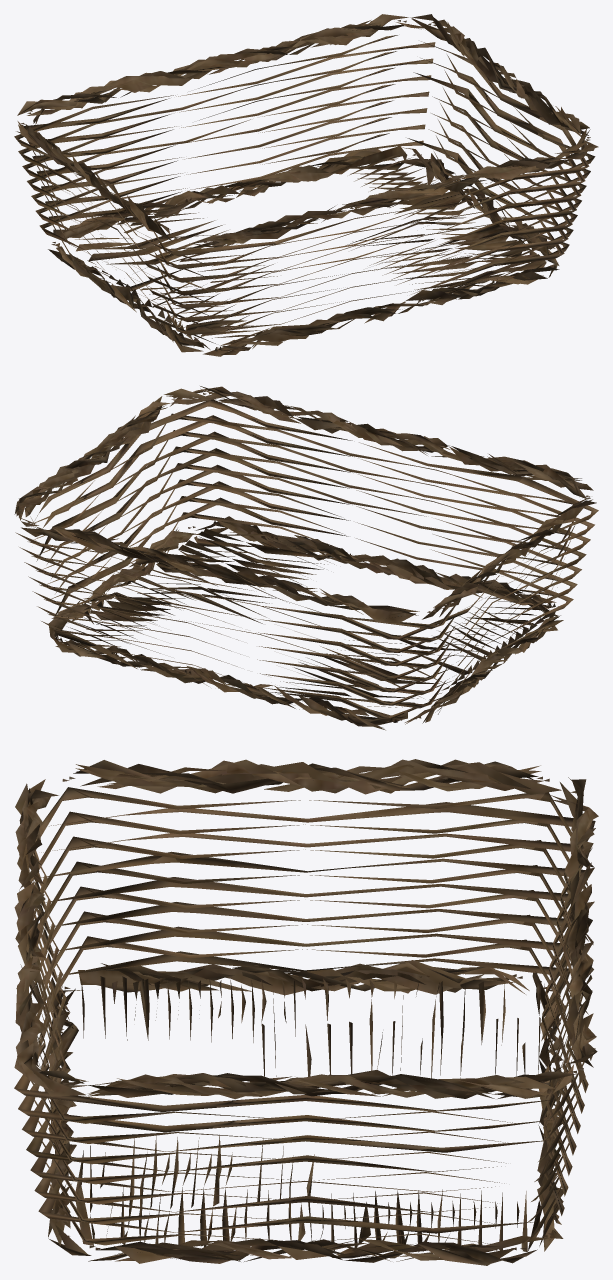
Rendered from wicker_basket_01.gltf.
3 renders of one model, top to bottom at view 1: azimuth 30°, elevation 25°; view 2: azimuth 150°, elevation 25°; view 3: azimuth 270°, elevation 25°, orthographic. The views are drawn at different scales.
Parts seen in each view (by area): view 1: wicker_basket_01; view 2: wicker_basket_01; view 3: wicker_basket_01.
Boxes of the visible parts, x1=… form: wicker_basket_01: x1=14, y1=14, x2=598, y2=356; wicker_basket_01: x1=14, y1=386, x2=598, y2=730; wicker_basket_01: x1=14, y1=759, x2=598, y2=1265.
Bounding box in the file's own units: 0.383 × 0.1185 × 0.2933.
Materials: 1 (1 with a texture image).
